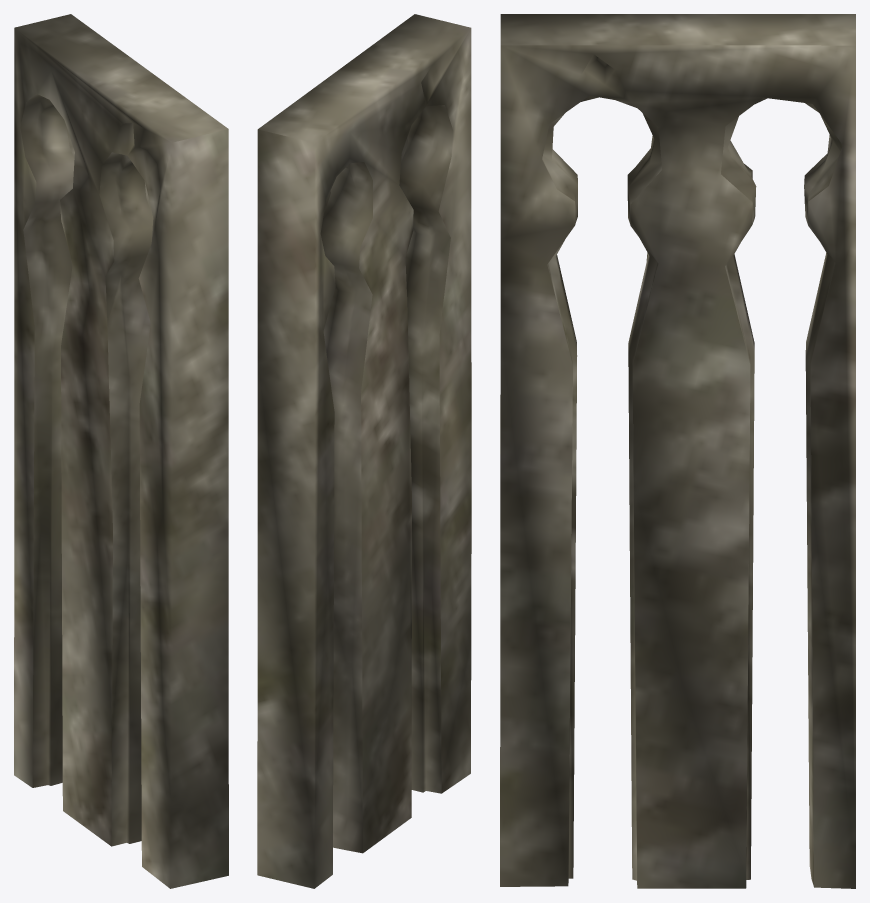
The model's file is UW_Building_B_Arch2-transformed.glb.
The picture shows the model from 3 angles, left to right: view 1: azimuth 30°, elevation 25°; view 2: azimuth 150°, elevation 25°; view 3: azimuth 270°, elevation 25°; orthographic projection. The views are drawn at different scales.
Parts seen in each view (by area): view 1: UW_Building_B_Arch2; view 2: UW_Building_B_Arch2; view 3: UW_Building_B_Arch2.
Part boxes in pixels (box(x1,y1,x2,y2)): UW_Building_B_Arch2: box(14, 14, 228, 888); UW_Building_B_Arch2: box(257, 14, 471, 888); UW_Building_B_Arch2: box(500, 14, 855, 888).
Bounding box in the file's own units: 2.52 × 31.23 × 11.94.
1 material, 1 textured.
